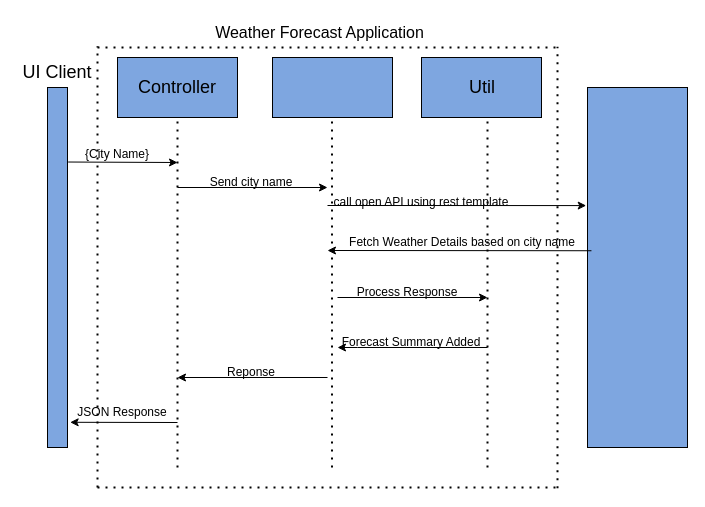
This 705x507 diagram has some shape labels left out. Here are the shapes that lost their labels. From the top down, the centre of each, then its label:
At pixel 332 87: "Service".
At pixel 637 267: "Open Weather API".
